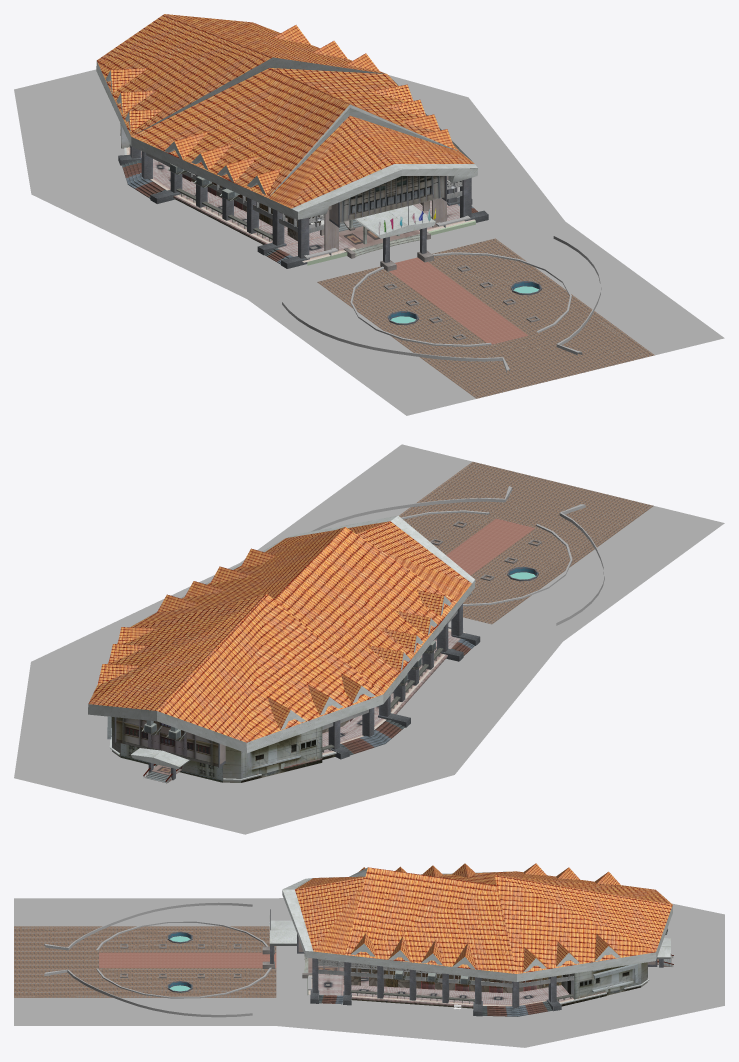
Rendered from assembly_room.glb.
3 renders of one model, top to bottom at view 1: azimuth 30°, elevation 25°; view 2: azimuth 150°, elevation 25°; view 3: azimuth 270°, elevation 25°, orthographic. The views are drawn at different scales.
Parts seen in each view (by area): view 1: polySurface1067; view 2: polySurface1067; view 3: polySurface1067.
Boxes of the visible parts, x1=… form: polySurface1067: x1=14, y1=14, x2=724, y2=415; polySurface1067: x1=14, y1=444, x2=724, y2=834; polySurface1067: x1=14, y1=863, x2=724, y2=1047.
Size of the model in its own units: 1265 by 338 by 2218.
13 materials, 8 textured.
